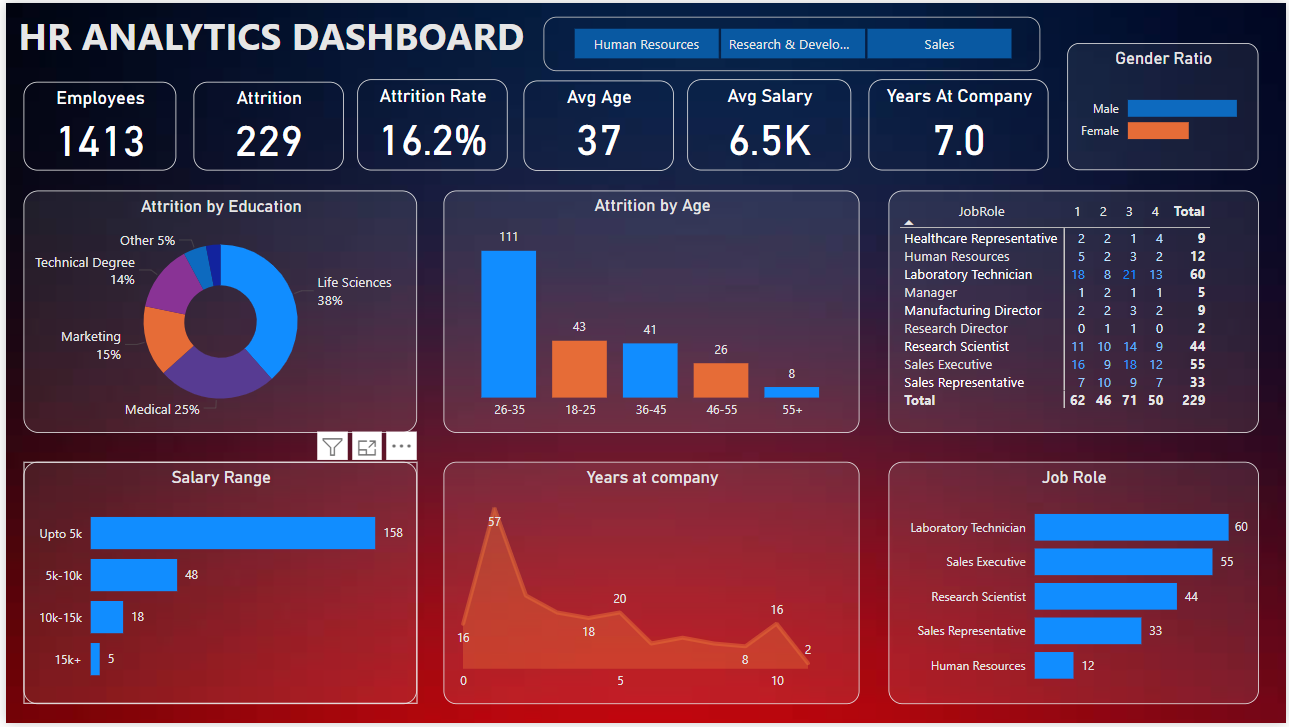

The dashboard page shown, as its layout file describes it:
{"tool":"powerbi","page":{"name":"Page 1","canvas":[1280,720],"ordinal":0},"visuals":[{"type":"card","title":"Employees","fields":{"Values":["CountNonNull(HR_Analytics.EmpID)"]},"box":[17.5,78.8,152.5,88.8],"z":0},{"type":"card","title":"Attrition","fields":{"Values":["Sum(HR_Analytics.Atrition_count)"]},"box":[187.5,78.8,150,88.8],"z":1000},{"type":"card","title":"Attrition Rate","fields":{"Values":["HR_Analytics.AtritionRate"]},"box":[351.2,76.2,150,91.2],"z":2000},{"type":"card","title":"Avg Age","fields":{"Values":["Avg(HR_Analytics.Age)"]},"box":[517.5,77.5,150,90],"z":3000},{"type":"card","title":"Avg Salary","fields":{"Values":["Avg(HR_Analytics.MonthlyIncome)"]},"box":[681.2,76.2,163.8,91.2],"z":4000},{"type":"card","title":"Years At Company","fields":{"Values":["Avg(HR_Analytics.YearsAtCompany)"]},"box":[862.5,76.2,180,91.2],"z":5000},{"type":"donutChart","title":"Attrition by Education","fields":{"Category":["HR_Analytics.EducationField"],"Y":["Sum(HR_Analytics.Atrition_count)"]},"box":[17.5,187.5,393.8,242.5],"z":6000},{"type":"columnChart","title":"Attrition by Age","fields":{"Category":["HR_Analytics.AgeGroup"],"Y":["Sum(HR_Analytics.Atrition_count)"]},"box":[437.5,187.5,416.2,242.5],"z":7000},{"type":"pivotTable","fields":{"Rows":["HR_Analytics.JobRole"],"Columns":["HR_Analytics.JobSatisfaction"],"Values":["Sum(HR_Analytics.Atrition_count)"]},"box":[882.5,187.5,370,242.5],"z":8000},{"type":"barChart","title":"Salary Range","fields":{"Category":["HR_Analytics.SalarySlab"],"Y":["Sum(HR_Analytics.Atrition_count)"]},"box":[17.5,458.8,393.8,242.5],"z":9000},{"type":"barChart","title":"Job Role","fields":{"Category":["HR_Analytics.JobRole"],"Y":["Sum(HR_Analytics.Atrition_count)"]},"box":[882.5,458.8,370,242.5],"z":10000},{"type":"areaChart","title":"Years at company","fields":{"Category":["HR_Analytics.YearsAtCompany"],"Y":["Sum(HR_Analytics.Atrition_count)"]},"box":[437.5,458.8,416.2,242.5],"z":11000},{"type":"barChart","title":"Gender Ratio","fields":{"Category":["HR_Analytics.Gender"],"Y":["Sum(HR_Analytics.Atrition_count)"]},"box":[1061.2,40,191.2,127.5],"z":12000},{"type":"slicer","fields":{"Values":["HR_Analytics.Department"]},"box":[538,14,497,54],"z":13000},{"type":"textbox","box":[8,3,546,76],"z":14000}]}

Visuals, with their boxes in screenshot pixels (x1, y1, x2, y2), scaled from the page's 1280x720 canvas onto the 1289x727 screenshot:
"Employees" card: l=18, t=80, r=171, b=169
"Attrition" card: l=189, t=80, r=340, b=169
"Attrition Rate" card: l=354, t=77, r=505, b=169
"Avg Age" card: l=521, t=78, r=672, b=169
"Avg Salary" card: l=686, t=77, r=851, b=169
"Years At Company" card: l=869, t=77, r=1050, b=169
"Attrition by Education" donutChart: l=18, t=189, r=414, b=434
"Attrition by Age" columnChart: l=441, t=189, r=860, b=434
pivotTable - HR_Analytics.JobRole x HR_Analytics.JobSatisfaction: l=889, t=189, r=1261, b=434
"Salary Range" barChart: l=18, t=463, r=414, b=708
"Job Role" barChart: l=889, t=463, r=1261, b=708
"Years at company" areaChart: l=441, t=463, r=860, b=708
"Gender Ratio" barChart: l=1069, t=40, r=1261, b=169
slicer - HR_Analytics.Department: l=542, t=14, r=1042, b=69
textbox: l=8, t=3, r=558, b=80
